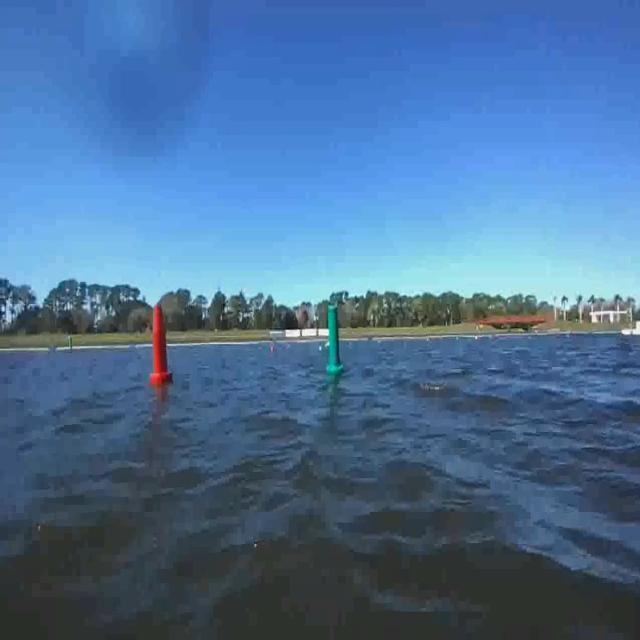green-column-buoy: (325, 304, 343, 375)
red-column-buoy: (150, 304, 173, 386)
